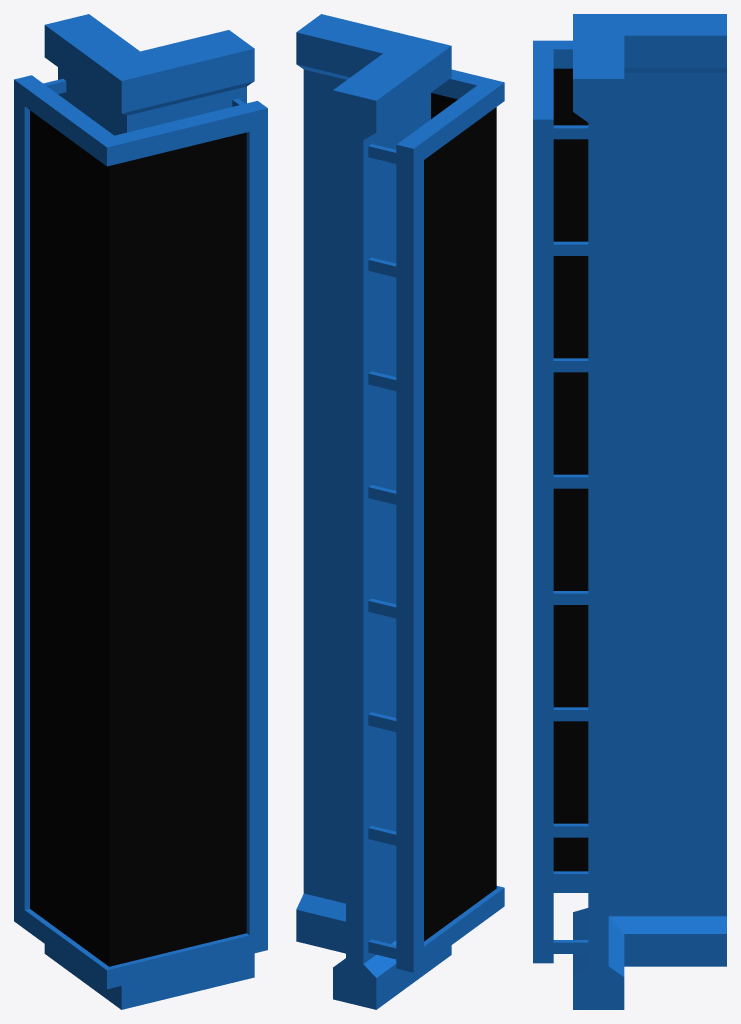
File: SM_large_wall.fbx
3 views of the same model, side by side, from view 1: azimuth 30°, elevation 25°; view 2: azimuth 150°, elevation 25°; view 3: azimuth 270°, elevation 25° (orthographic). The views are drawn at different scales.
Visible parts, largest first — view 1: large_wall_2; view 2: large_wall_2; view 3: large_wall_2.
Boxes of the visible parts, box(x1,y1,x2,y2) form: large_wall_2: box(14, 14, 267, 1009); large_wall_2: box(296, 14, 504, 1009); large_wall_2: box(533, 14, 726, 1009).
Size of the model in its own units: 75.49 by 400 by 75.49.
